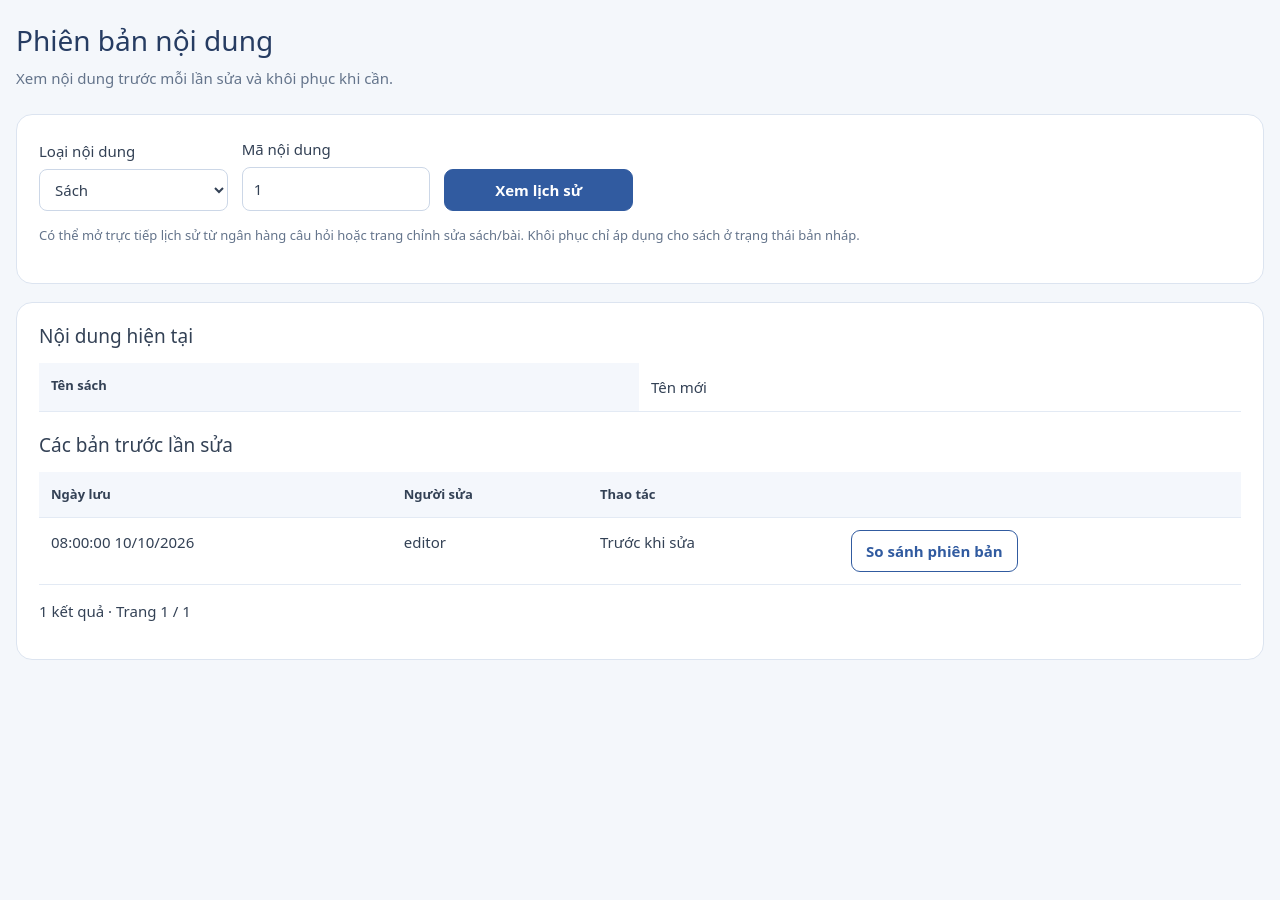
Test: restores only with the current content token and presents stale content errors
Click the button "So sánh phiên bản".
click(934, 551)  # box [851, 530, 1018, 572]
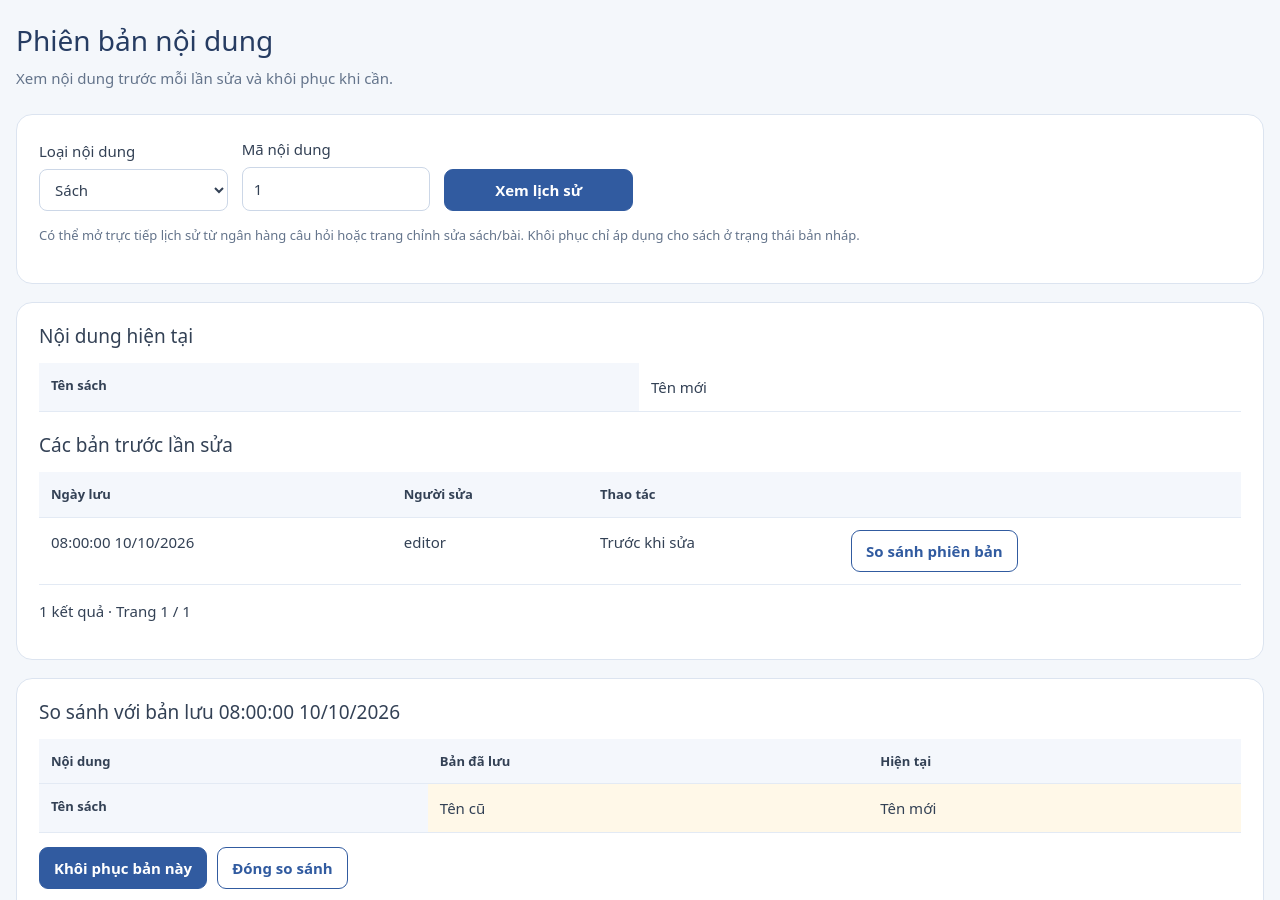
Click the button "Khôi phục bản này".
click(123, 868)  # box [39, 847, 207, 889]
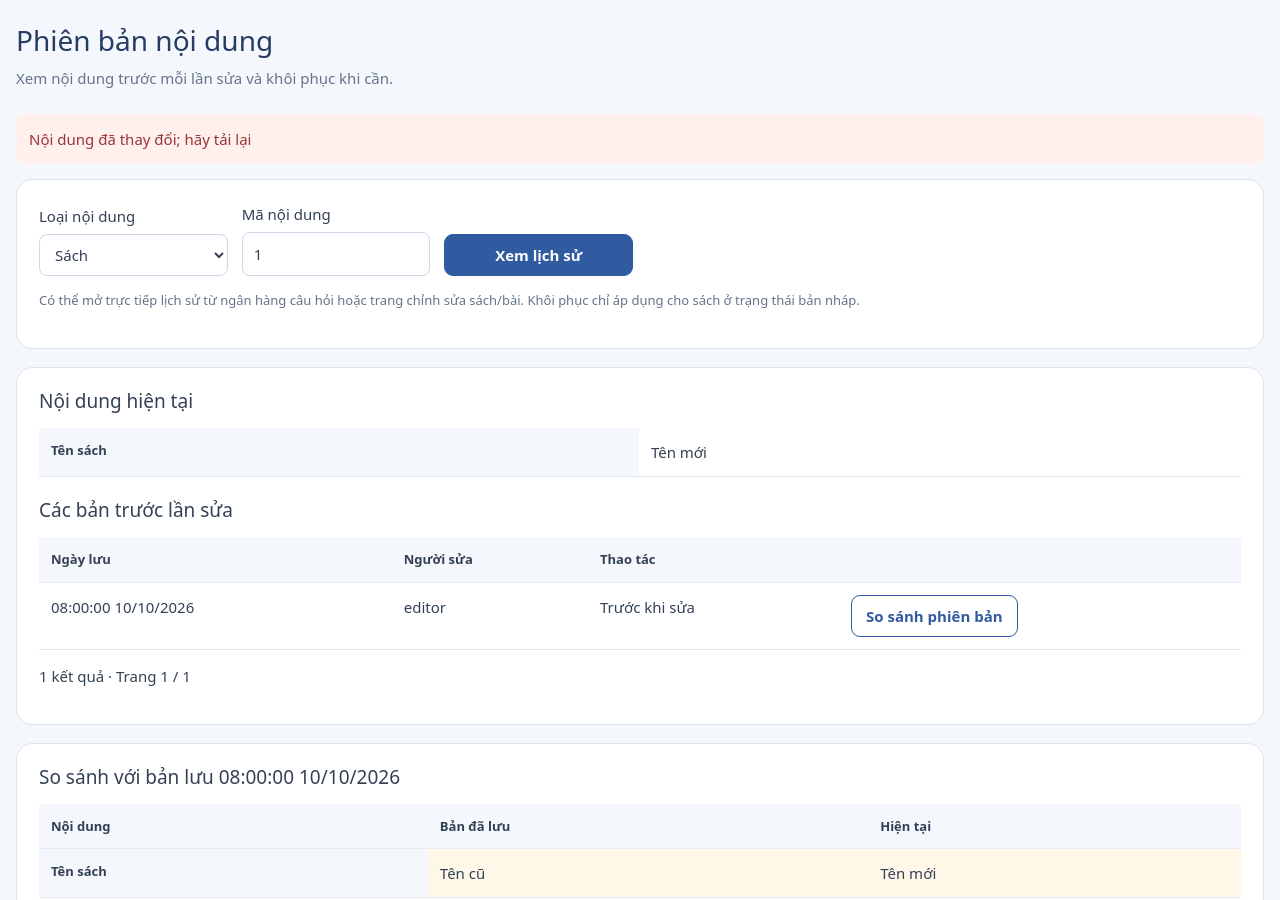
Check: the message "Nội dung đã thay đổi; hãy tải lại" is shown, box [16, 114, 1264, 164]
